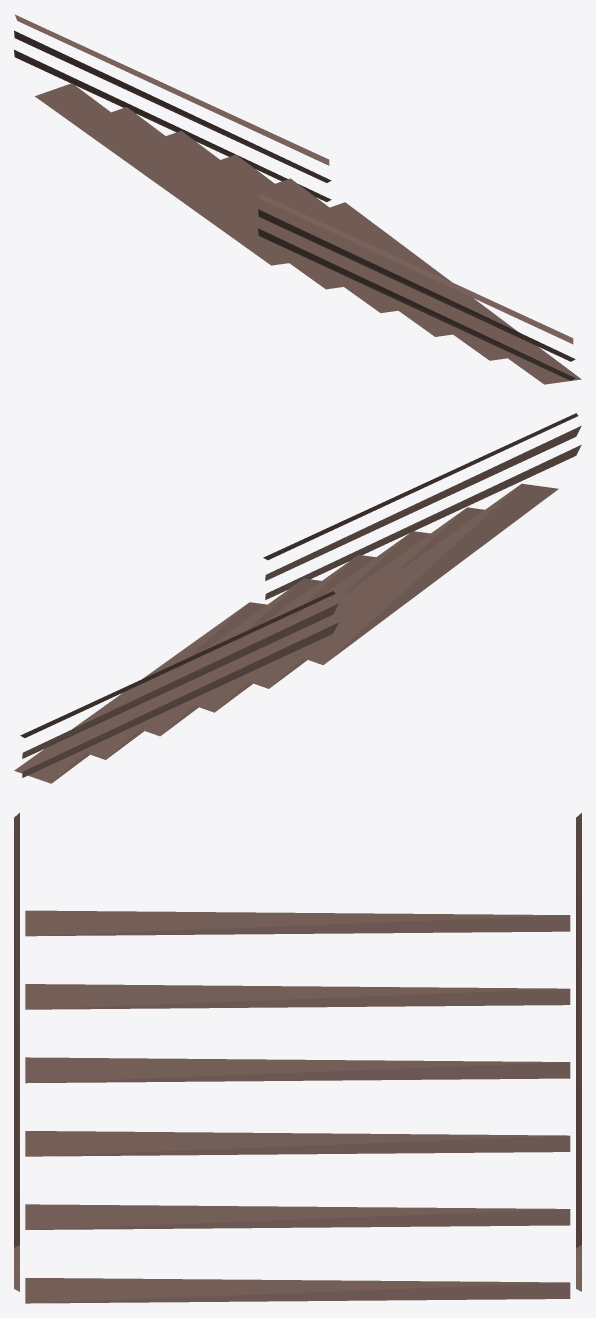
File: bleacher.lod2.glb
The picture shows the model from 3 angles, top to bottom: view 1: azimuth 30°, elevation 25°; view 2: azimuth 150°, elevation 25°; view 3: azimuth 270°, elevation 25°; orthographic projection. The views are drawn at different scales.
Parts seen in each view (by area): view 1: bleacher_bleacherMAT_0; view 2: bleacher_bleacherMAT_0; view 3: bleacher_bleacherMAT_0.
Part boxes in pixels (x1,y1,x2,y2): bleacher_bleacherMAT_0: (14, 14, 581, 384); bleacher_bleacherMAT_0: (14, 413, 581, 783); bleacher_bleacherMAT_0: (14, 813, 581, 1303).
Bounding box in the file's own units: 5.38 × 4.19 × 6.99.
